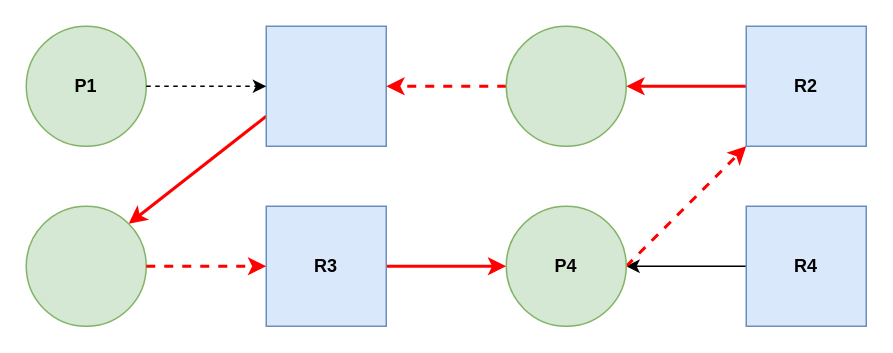
The diagram is 893 pixels wide and 353 high, and some of its shapes have lost their labels. The box of each missing label's shape, as (x1, y1, x2, y2) in pixels:
P2: (505, 25, 626, 146)
P3: (25, 205, 146, 326)
R1: (265, 25, 386, 146)
